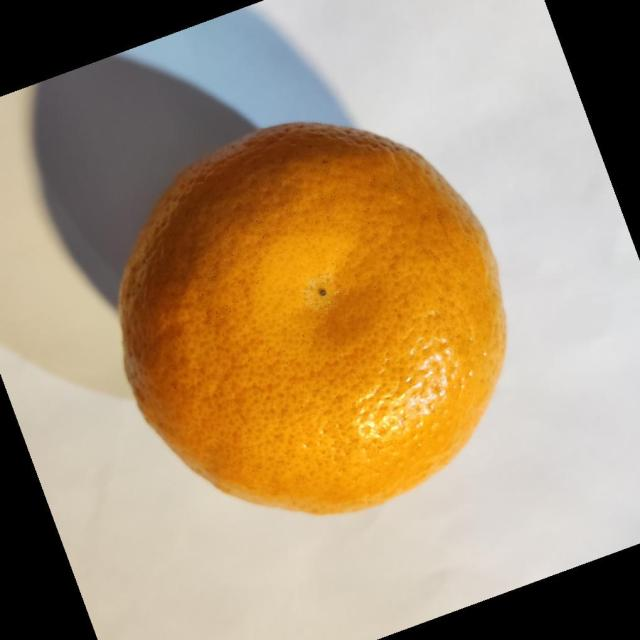fresh orange: (116, 120, 508, 516)
